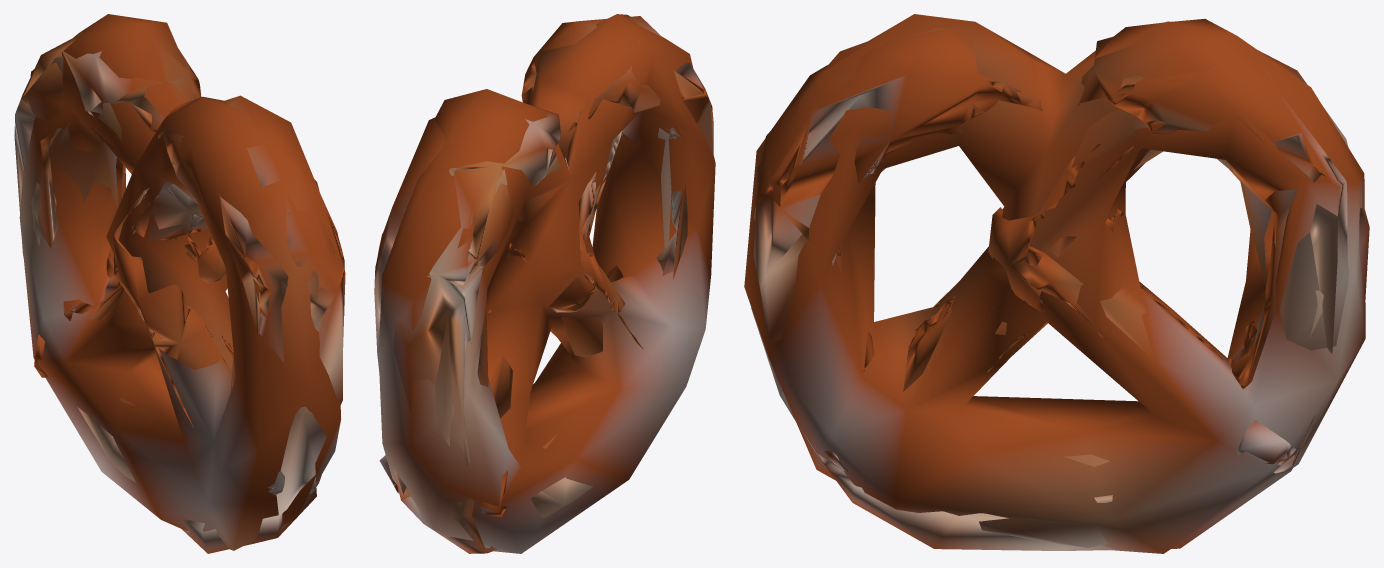
Rendered from gen3d-pretzel-lod0.glb.
The picture shows the model from 3 angles, left to right: view 1: azimuth 30°, elevation 25°; view 2: azimuth 150°, elevation 25°; view 3: azimuth 270°, elevation 25°; orthographic projection. The views are drawn at different scales.
Visible parts, largest first — view 1: part_0; view 2: part_0; view 3: part_0.
Part boxes in pixels (x1,y1,x2,y2): part_0: [14, 14, 345, 553]; part_0: [374, 14, 715, 553]; part_0: [744, 14, 1369, 553].
Bounding box in the file's own units: 0.2716 × 1 × 1.07.
